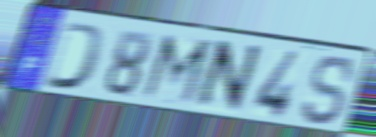4: (250, 48, 299, 121)
8: (102, 28, 153, 99)
D: (41, 19, 109, 94)
M: (137, 31, 217, 110)
N: (190, 38, 266, 115)
S: (299, 54, 357, 128)
